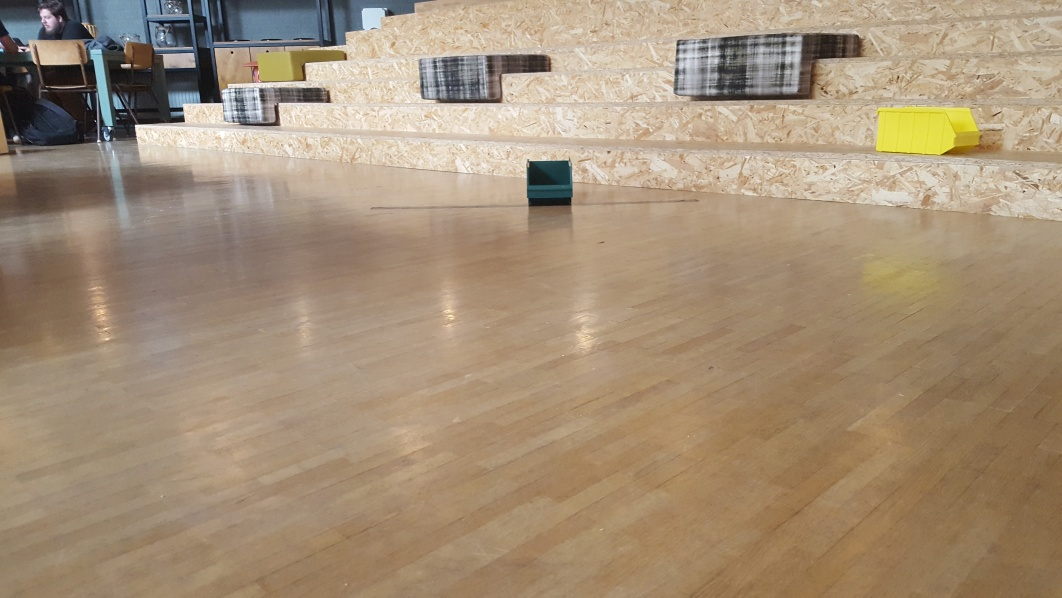tray: (874, 105, 981, 157), (524, 159, 575, 203)
